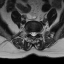CCS_normal: (32, 29, 34, 38)
LFS_stenosis: (36, 30, 39, 36)
LLS_normal: (34, 29, 36, 36)
RFS_severe_stenosis: (27, 30, 30, 35)
RLS_normal: (30, 30, 32, 36)
